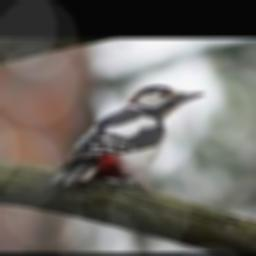Woodpecker: (50, 86, 206, 193)
